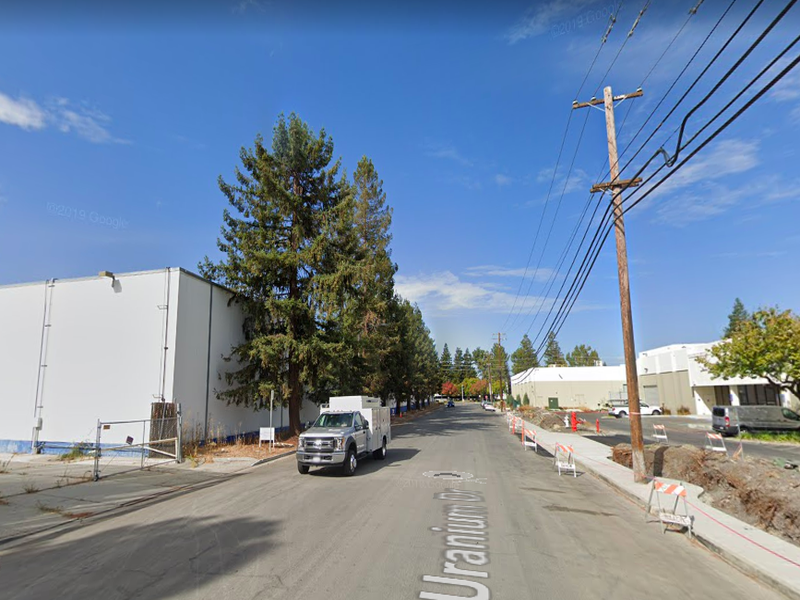tree: (197, 111, 370, 444)
utility_pole: (568, 78, 648, 126)
